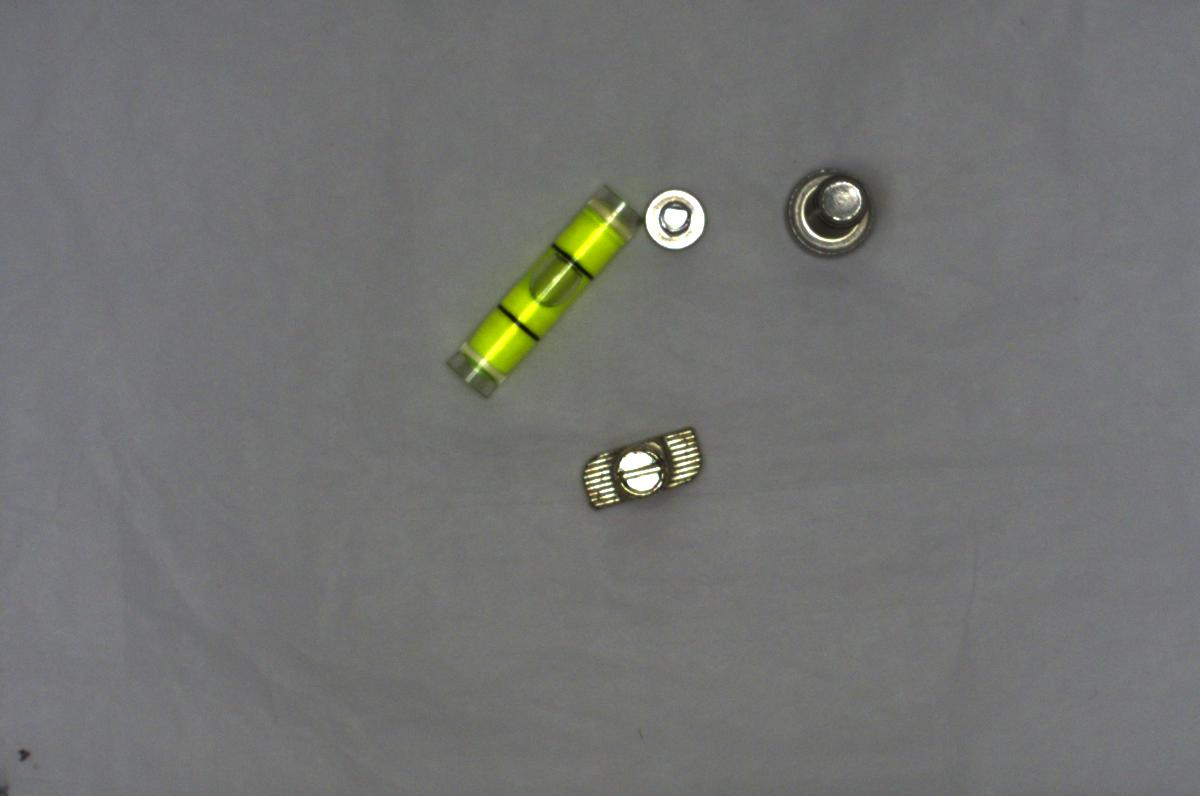Hexagon screw: (781, 162, 884, 267)
Horizontal bubble: (445, 180, 644, 405)
Round head screw: (640, 175, 711, 255)
T-shaped screw: (572, 414, 711, 516)
